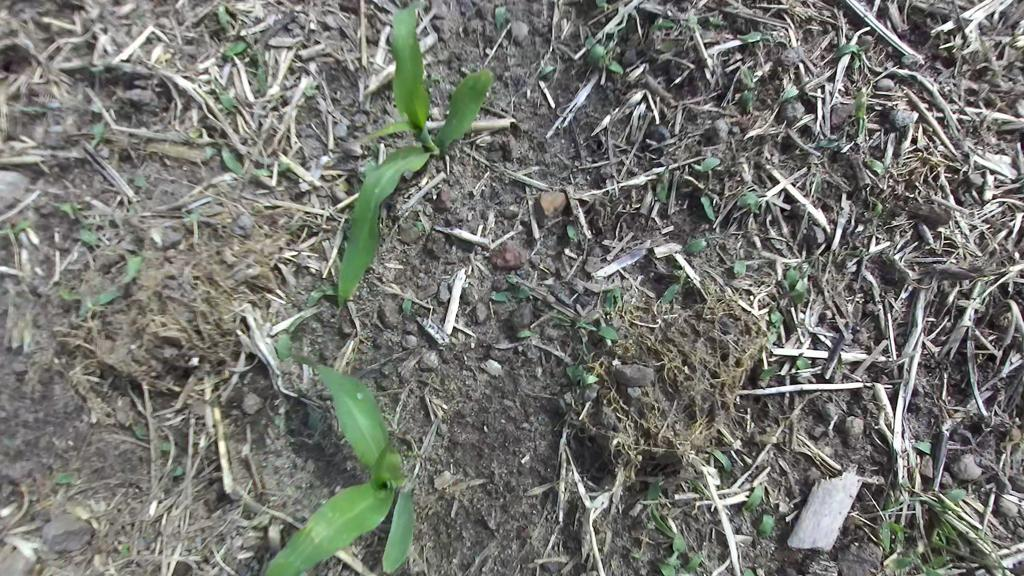BroWeed: (925, 505, 966, 555), (908, 484, 970, 517), (641, 478, 673, 541), (204, 131, 247, 177), (272, 310, 305, 363), (734, 479, 769, 528), (65, 210, 103, 253), (896, 524, 934, 566), (657, 265, 693, 307), (730, 64, 760, 114), (774, 70, 813, 108), (48, 185, 87, 222), (781, 272, 818, 309), (77, 112, 113, 149), (575, 315, 623, 342), (299, 277, 339, 309), (119, 235, 163, 263), (141, 218, 175, 252), (781, 251, 811, 289), (89, 283, 130, 309), (706, 442, 737, 476), (210, 79, 238, 116), (488, 280, 531, 304), (115, 248, 143, 284), (568, 362, 600, 393), (598, 30, 624, 68), (586, 28, 610, 67), (0, 213, 31, 242), (211, 3, 239, 35), (644, 551, 679, 576), (264, 517, 285, 558), (600, 50, 627, 81), (740, 185, 766, 217), (7, 315, 29, 352), (599, 285, 628, 313), (72, 503, 102, 530), (886, 553, 926, 573), (626, 539, 648, 575), (503, 269, 532, 296), (683, 233, 715, 257), (219, 34, 249, 59), (128, 170, 158, 195), (853, 86, 868, 136), (882, 544, 905, 576), (691, 153, 723, 176), (6, 99, 49, 116), (884, 516, 911, 543), (668, 527, 689, 561), (864, 152, 890, 179), (833, 40, 871, 58), (655, 163, 672, 203), (235, 513, 272, 530), (764, 302, 787, 329), (547, 307, 574, 330), (833, 244, 864, 264), (598, 518, 615, 554), (805, 131, 841, 148), (757, 360, 782, 384), (690, 477, 713, 503), (57, 282, 84, 304), (590, 483, 612, 510), (179, 131, 215, 147), (699, 193, 718, 223), (255, 51, 267, 98), (831, 352, 848, 385), (757, 510, 776, 539), (197, 70, 223, 91), (734, 189, 760, 210), (678, 12, 701, 35), (737, 29, 772, 44), (648, 15, 677, 33), (22, 312, 34, 355), (684, 549, 703, 576), (577, 308, 602, 328), (129, 420, 150, 443), (638, 509, 658, 533), (928, 551, 952, 571), (399, 286, 415, 316), (955, 297, 986, 312), (791, 353, 813, 374), (868, 193, 886, 218), (881, 493, 905, 511), (53, 471, 86, 484), (879, 521, 892, 553), (969, 278, 987, 301), (535, 61, 558, 79), (563, 364, 580, 388), (698, 13, 727, 27), (200, 141, 220, 161), (763, 324, 782, 345), (911, 439, 934, 456), (621, 457, 636, 483), (665, 552, 684, 572), (567, 223, 581, 250), (356, 158, 378, 175), (80, 286, 92, 317), (410, 216, 429, 235), (657, 38, 679, 54), (929, 534, 947, 552), (811, 173, 823, 200), (169, 462, 186, 480), (269, 410, 286, 428), (115, 81, 128, 104), (835, 126, 848, 149), (243, 526, 266, 538), (514, 327, 537, 339), (924, 565, 949, 576), (495, 5, 506, 30), (183, 206, 201, 221), (848, 54, 863, 72), (335, 177, 353, 192), (368, 141, 383, 159), (66, 113, 79, 133), (304, 80, 319, 97), (308, 411, 319, 433), (187, 126, 207, 138), (296, 93, 311, 109), (87, 99, 104, 113), (595, 532, 607, 551), (734, 259, 746, 278), (577, 326, 590, 343), (245, 49, 260, 63), (584, 34, 597, 50), (256, 155, 277, 164), (254, 167, 272, 176), (89, 64, 105, 74), (278, 159, 290, 172), (596, 0, 609, 12), (47, 124, 64, 133), (128, 200, 138, 215), (252, 202, 264, 214), (286, 223, 300, 233), (629, 465, 637, 482), (742, 567, 757, 576), (159, 52, 172, 62), (159, 438, 169, 451), (120, 543, 129, 557), (678, 567, 692, 576), (46, 102, 62, 109), (672, 269, 684, 277), (687, 550, 696, 560), (403, 449, 413, 457), (635, 454, 643, 463)
Maize: (264, 354, 432, 576)
